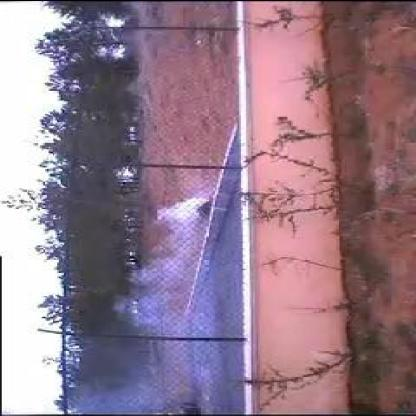-: (128, 197, 242, 384)
